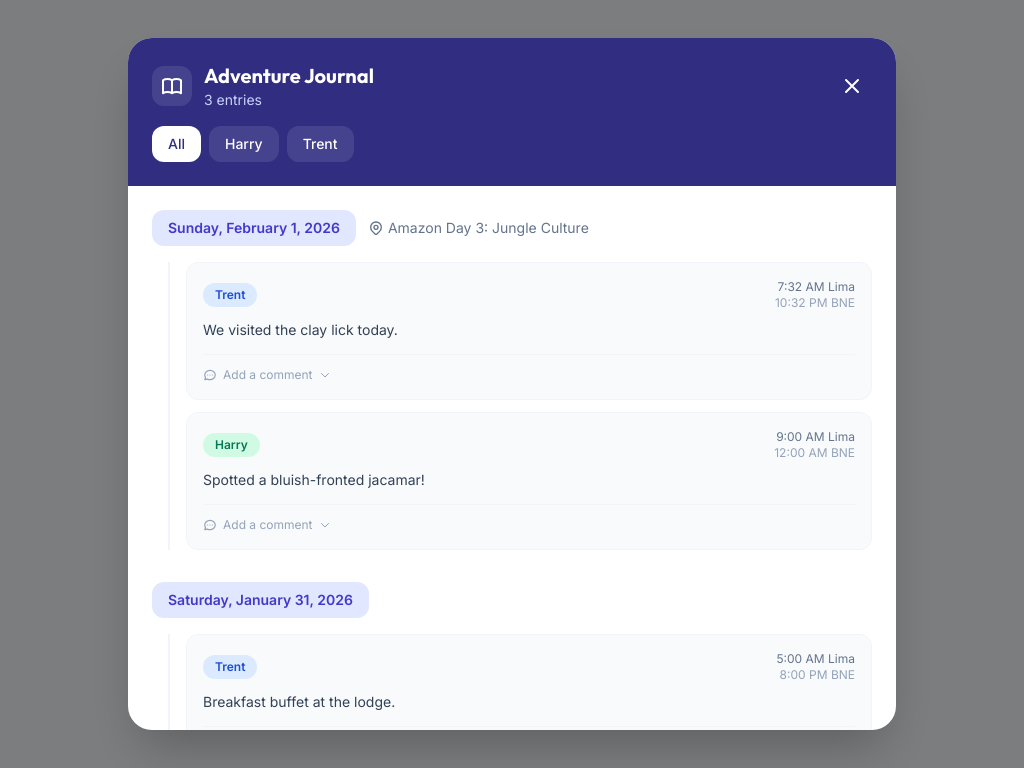
Test case: JournalView — comment integration › expands to show comment form when toggle is clicked
Click the button with test id "comment-toggle" below "We visited the clay lick today.": (267, 375) [203, 367, 331, 383]
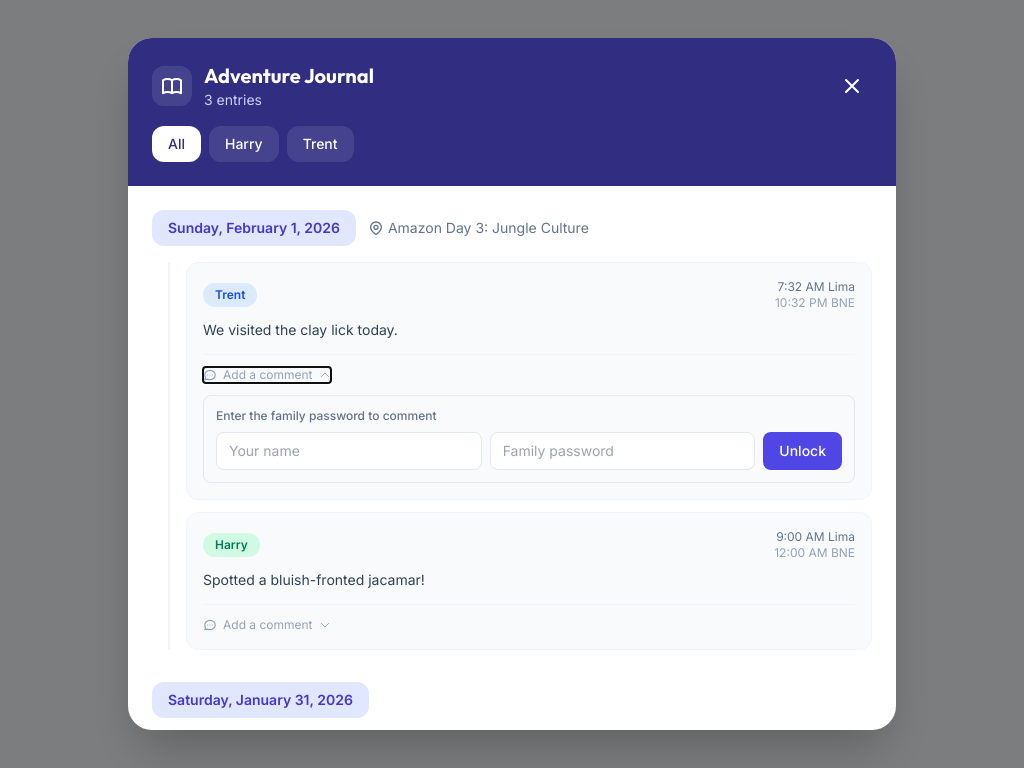
Result: the form with test id "comment-auth-form" is shown at [203, 395, 855, 483]
